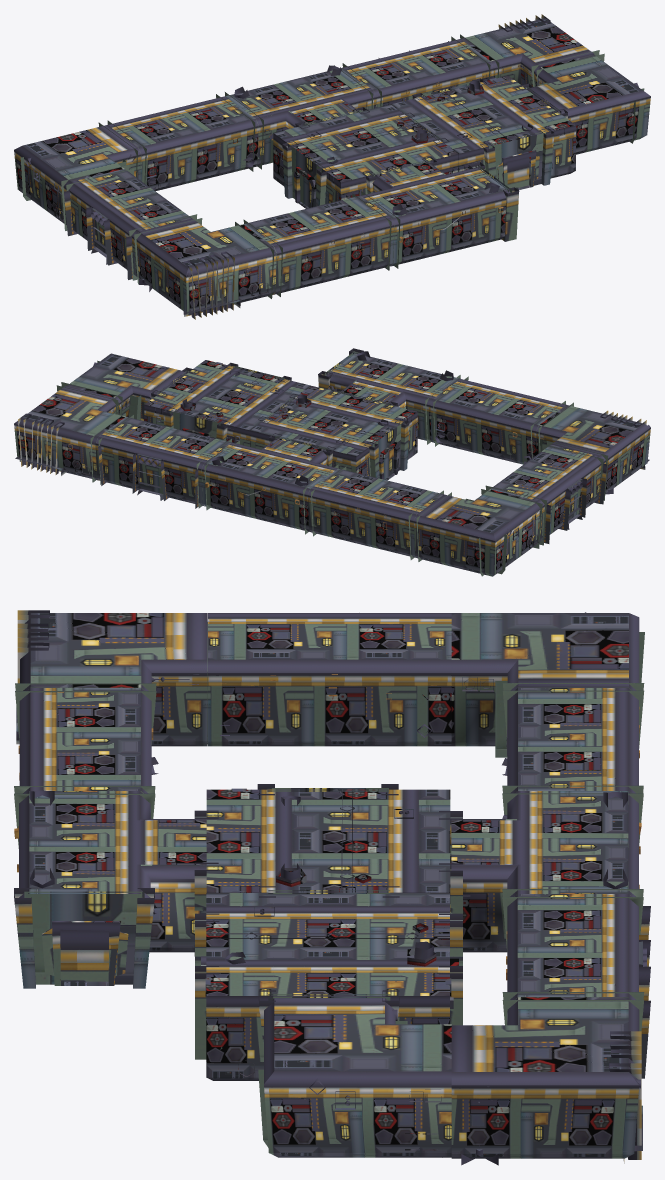
File: Combined_Mesh_root_scene__5_130fafea__zombies2_diffuse_07_65562b6b_c1f257.obj
3 views of the same model, one above another, from view 1: azimuth 30°, elevation 25°; view 2: azimuth 150°, elevation 25°; view 3: azimuth 270°, elevation 25° (orthographic). The views are drawn at different scales.
Bounding box in the file's own units: 92.31 × 9.64 × 52.29.
179 materials, 179 textured.
